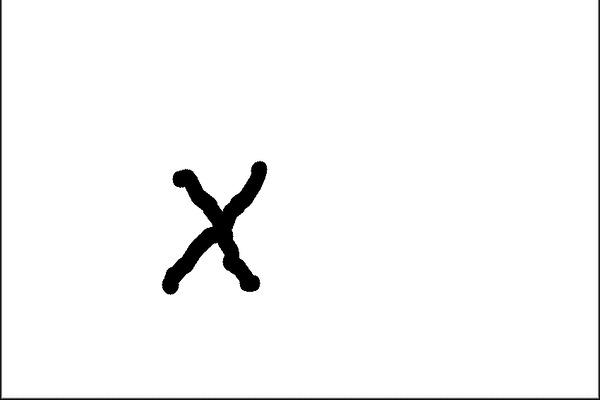X: (145, 149, 320, 307)
